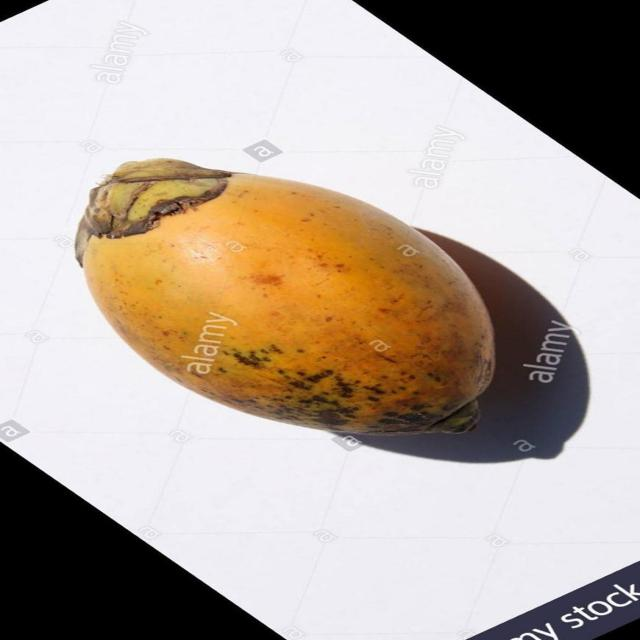good: (79, 161, 497, 440)
